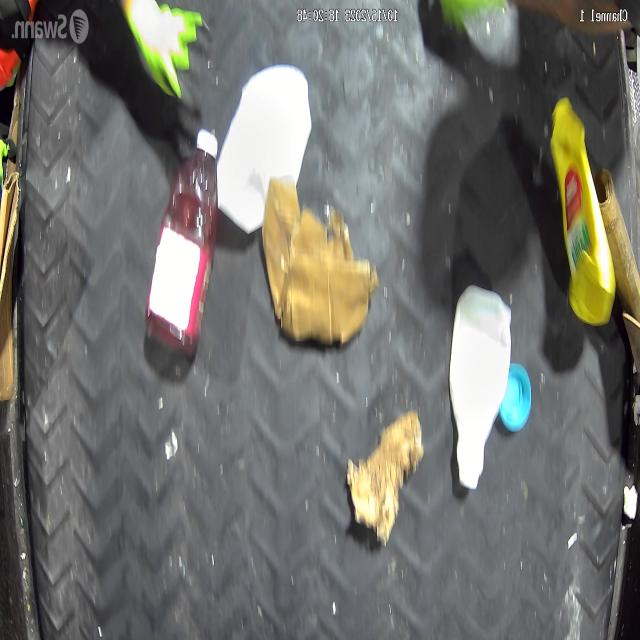milk_jug: (217, 63, 311, 235), (449, 284, 512, 488)
non_white_jug: (550, 98, 615, 325)
